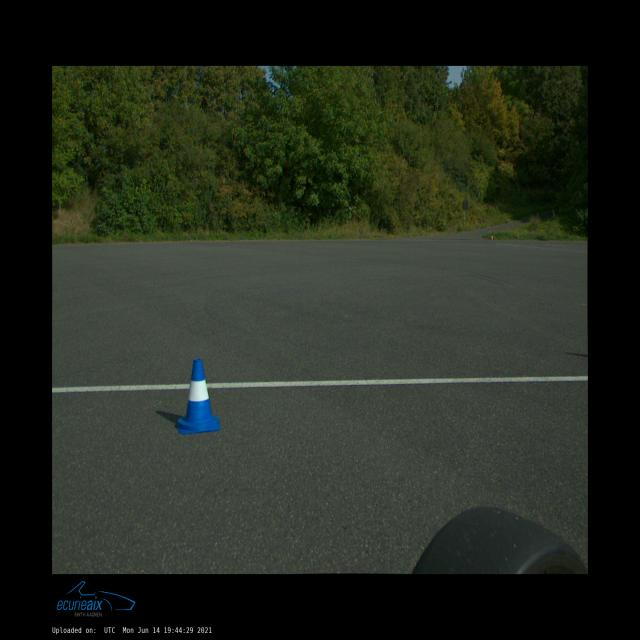blue_cone: (176, 360, 220, 434)
